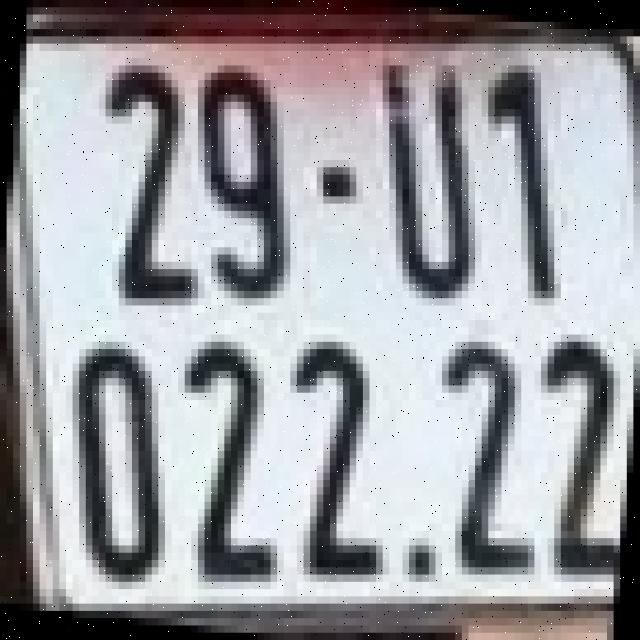0: (76, 346, 168, 578)
1: (488, 73, 568, 298)
2: (182, 342, 280, 582), (102, 66, 202, 298), (438, 342, 538, 574), (294, 338, 386, 578), (544, 342, 617, 574)
9: (201, 66, 294, 298)
U: (379, 62, 478, 294)
